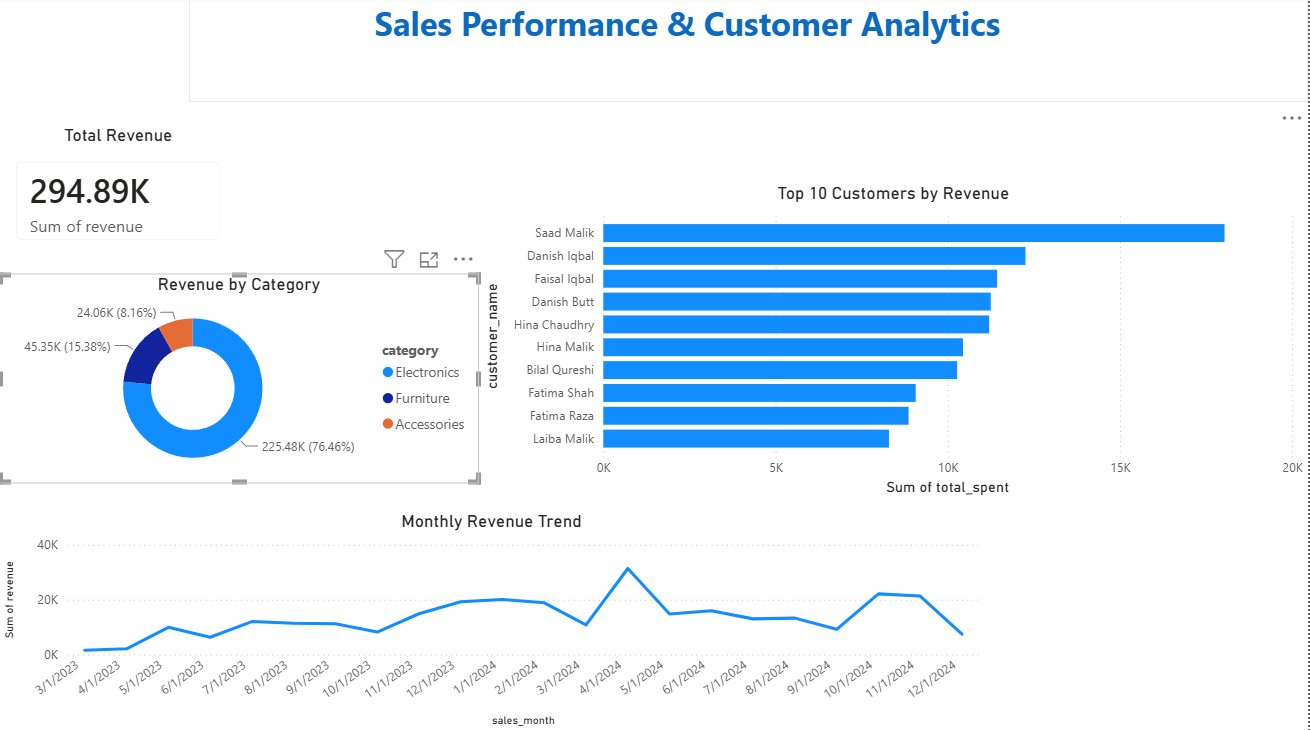

What the dashboard file says about the page in this screenshot:
{"tool":"powerbi","page":{"name":"Page 1","canvas":[1280,720],"ordinal":0},"visuals":[{"type":"lineChart","title":"Monthly Revenue Trend","fields":{"Category":["monthly_trend cvs.sales_month"],"Y":["Sum(monthly_trend cvs.revenue)"]},"box":[0,503.8,963.6,216.4],"z":0},{"type":"clusteredBarChart","title":"Top 10 Customers by Revenue","fields":{"Category":["top_customer cvs.customer_name"],"Y":["Sum(top_customer cvs.total_spent)"]},"box":[469.6,182.2,810.7,311.8],"z":1000},{"type":"donutChart","title":"Revenue by Category","fields":{"Category":["category_revenue cvs.category"],"Y":["Sum(category_revenue cvs.revenue)"]},"box":[0,271.5,469.6,205.4],"z":2000},{"type":"cardVisual","title":"Total Revenue","fields":{"Data":["Sum(monthly_trend cvs.revenue)"]},"box":[0,126,233.6,130.8],"z":3000},{"type":"textbox","box":[186.2,0,1094.1,103.9],"z":4000}]}

Visuals, with their boxes in screenshot pixels (x1, y1, x2, y2), scaled from the page's 1280x720 canvas onto the 1311x730 screenshot:
"Monthly Revenue Trend" lineChart: Rect(0, 511, 987, 729)
"Top 10 Customers by Revenue" clusteredBarChart: Rect(481, 185, 1310, 501)
"Revenue by Category" donutChart: Rect(0, 275, 481, 484)
"Total Revenue" cardVisual: Rect(0, 128, 239, 260)
textbox: Rect(191, 0, 1310, 105)
